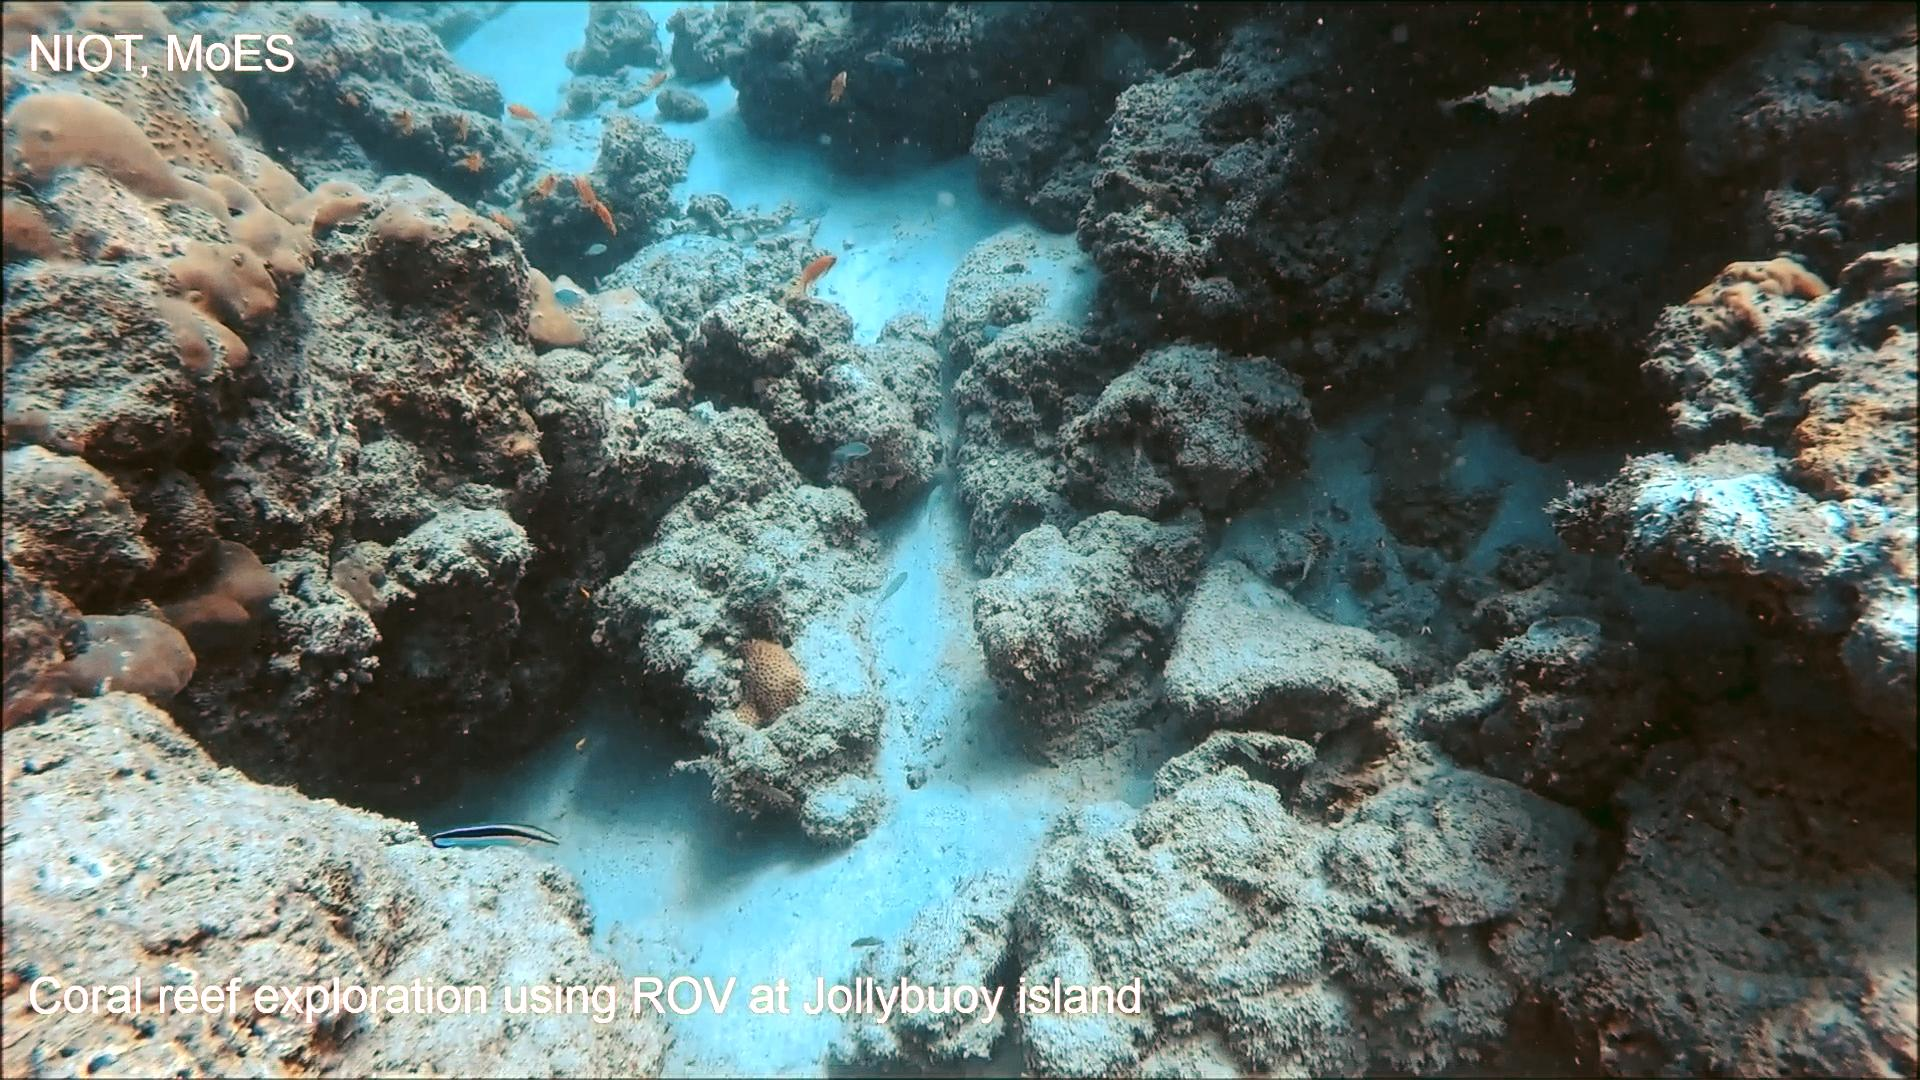Porites-Porites pukoensis: (0, 3, 381, 389)
